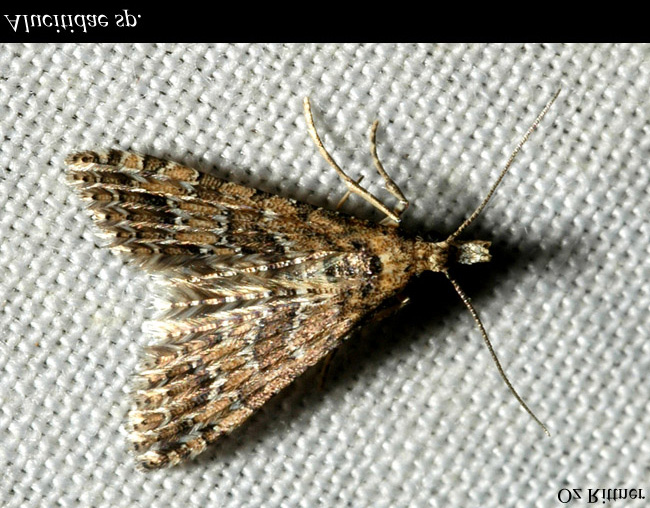Alucitidae: (54, 74, 557, 467)
moth: (56, 76, 559, 469)
